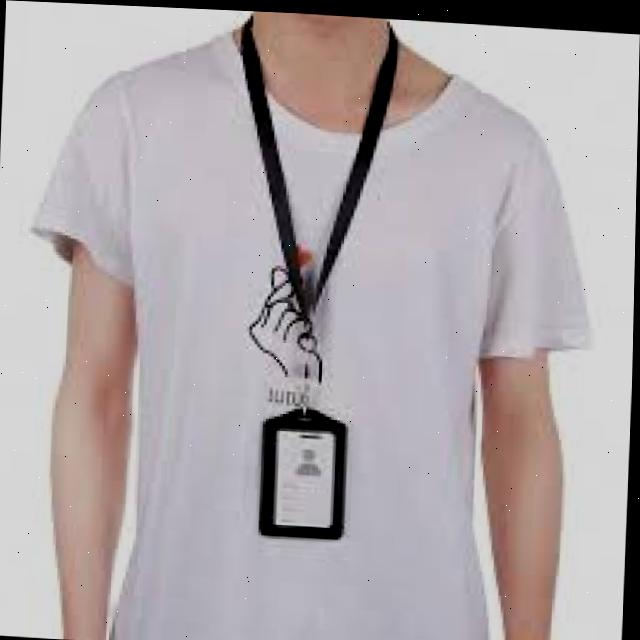id_card: (216, 22, 396, 545)
